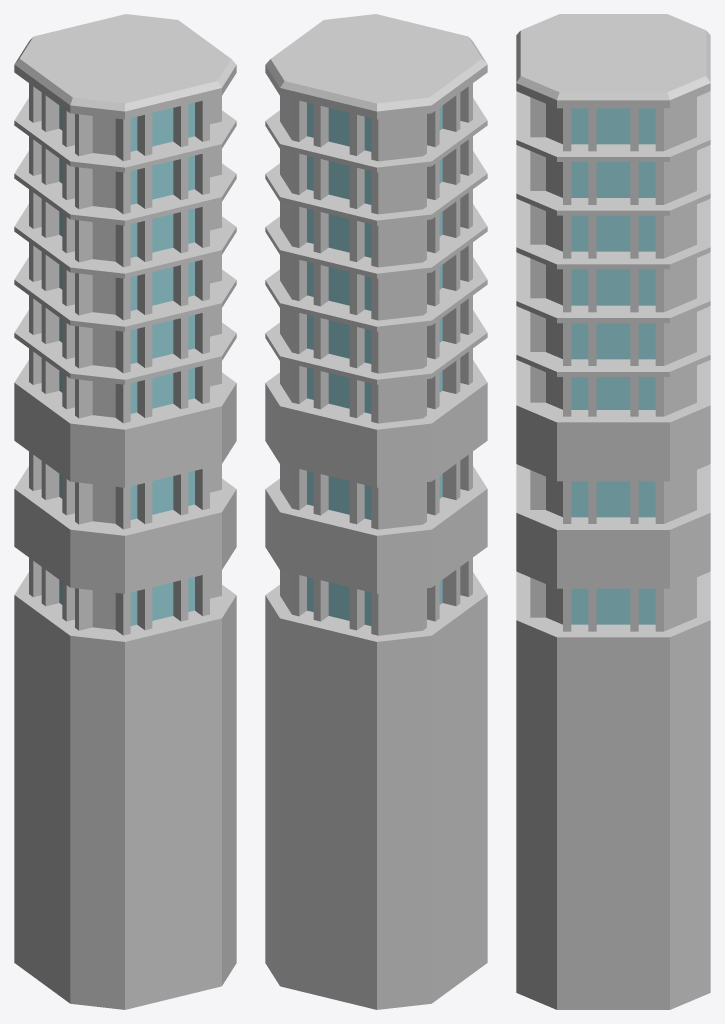
The model's file is BuildingD.fbx.
The picture shows the model from 3 angles, left to right: view 1: azimuth 30°, elevation 25°; view 2: azimuth 150°, elevation 25°; view 3: azimuth 270°, elevation 25°; orthographic projection.
Parts seen in each view (by area): view 1: Buillding1; view 2: Buillding1; view 3: Buillding1.
Boxes of the visible parts, x1=… form: Buillding1: x1=14, y1=14, x2=236, y2=1009; Buillding1: x1=265, y1=14, x2=487, y2=1009; Buillding1: x1=516, y1=14, x2=710, y2=1009.
Bounding box in the file's own units: 2320 × 12058 × 2320.
